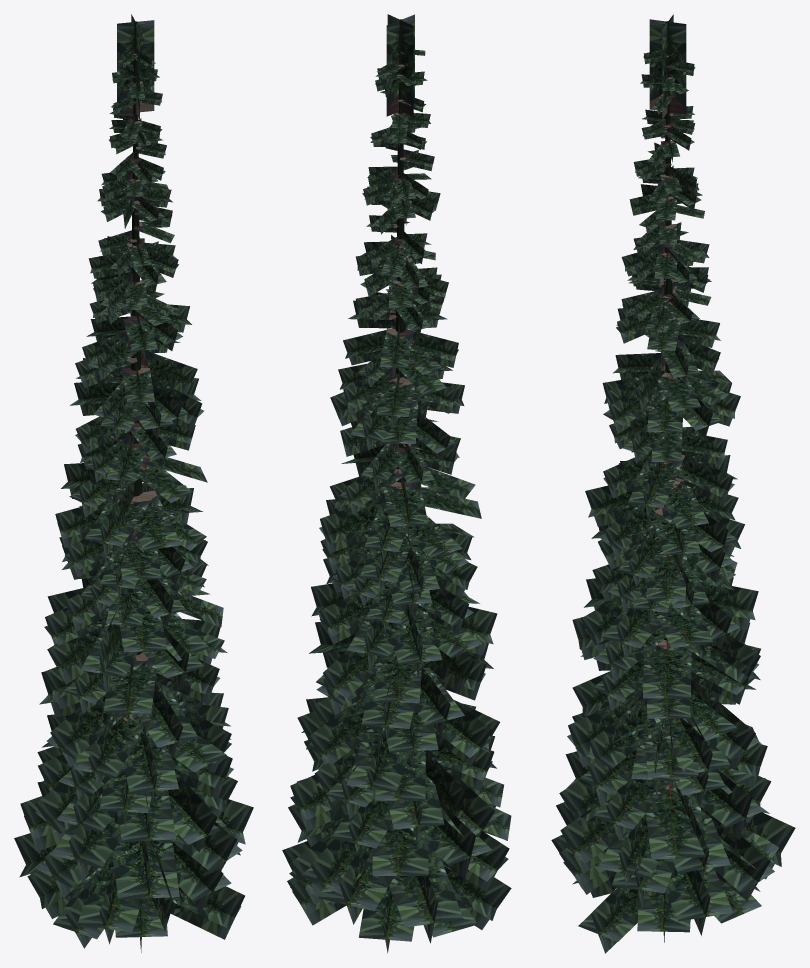
The model's file is category_mesh_tree_2_v1.glb.
3 renders of one model, left to right at view 1: azimuth 30°, elevation 25°; view 2: azimuth 150°, elevation 25°; view 3: azimuth 270°, elevation 25°, orthographic.
Parts seen in each view (by area): view 1: category_mesh_tree_2_v1; view 2: category_mesh_tree_2_v1; view 3: category_mesh_tree_2_v1.
Part boxes in pixels (x1,y1,x2,y2): category_mesh_tree_2_v1: (14, 14, 253, 952); category_mesh_tree_2_v1: (282, 14, 511, 953); category_mesh_tree_2_v1: (551, 14, 795, 953).
Bounding box in the file's own units: 4.03 × 17.75 × 4.35.
1 material, 1 textured.
